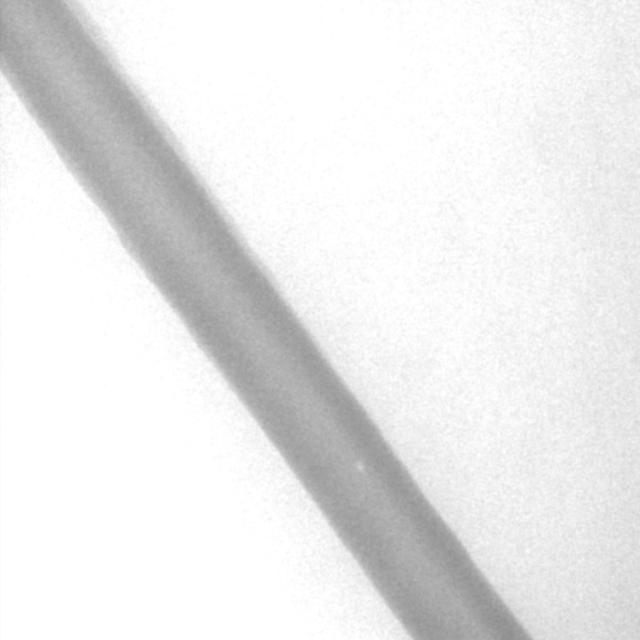air hole: (353, 459, 367, 475)
